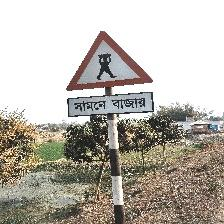Market-in-front: (66, 31, 155, 118)
